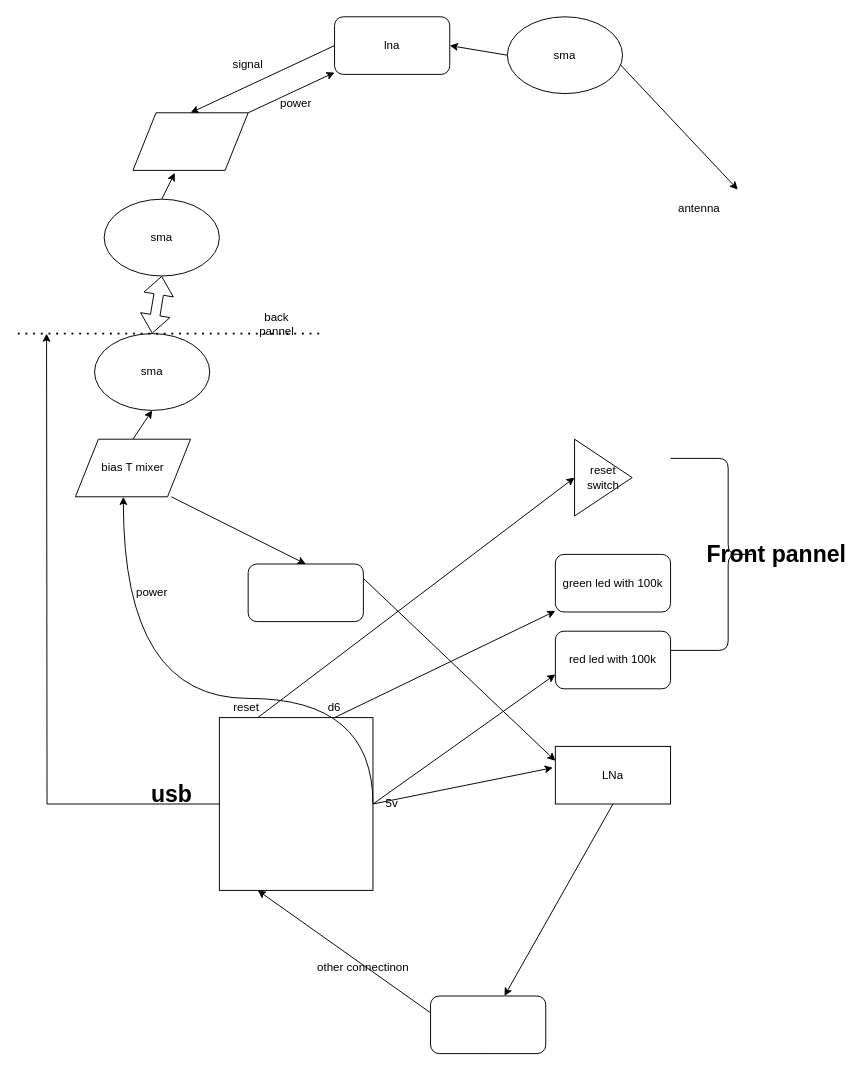
This 862x1078 diagram has some shape labels left out. The centre of each missing label's shape, as x and y in pixels:
"bias t separator" goes at point 190,141.
"filter" goes at point 305,592.
"MU nano" goes at point 295,803.
"rfm22b" goes at point 488,1024.
